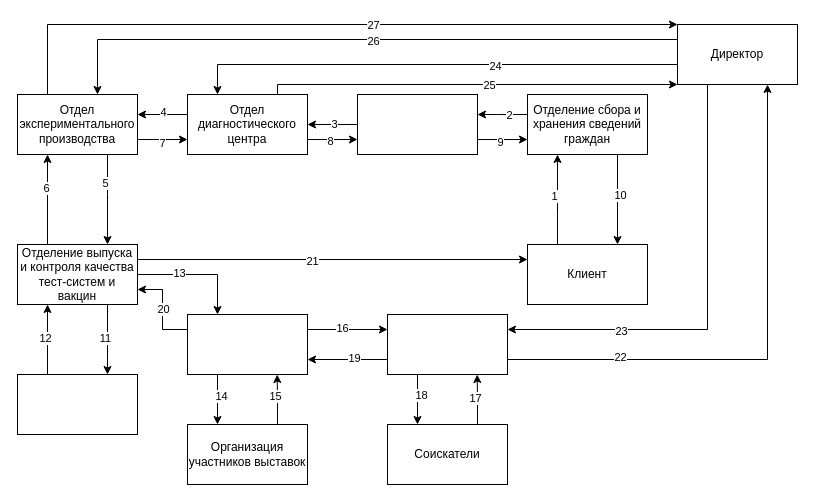
Some shapes in this 815 by 502 pixel diagram are drawn without their labels. The shapes that lost their labels are listed below. From the top down, each one's centre as x and y in pixels, then its label:
At point 417,124: "Отделение обработки".
At point 247,344: "Совет по проведению выставок и конфиренций".
At point 447,344: "Диссертационный центр".
At point 77,404: "Отделение хранения и учета".
